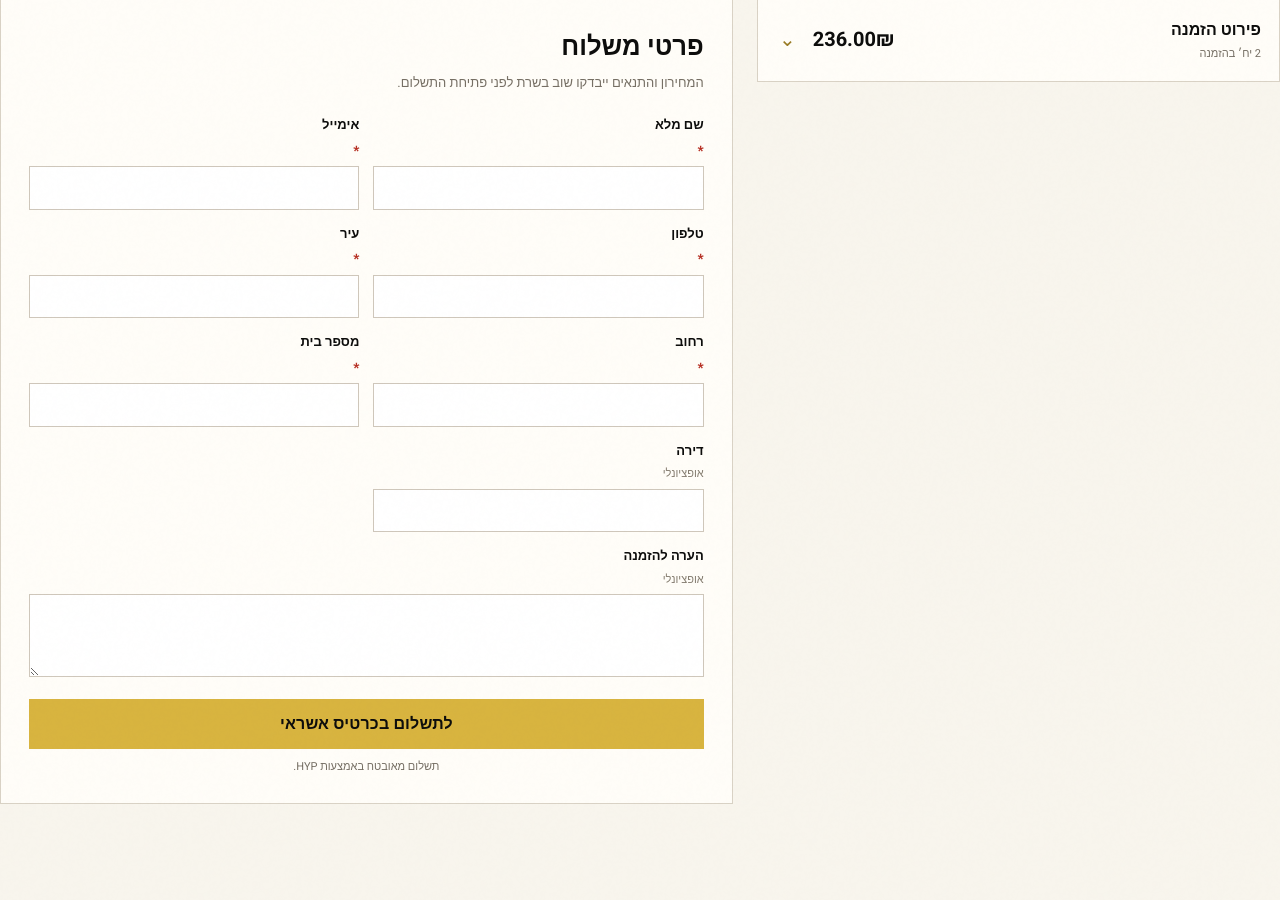
Test: clearly identifies and focuses the first missing delivery field before payment
The image size is (1280, 900).
(page scrolled)
Click the button "לתשלום בכרטיס אשראי". click: [366, 724]
box: left=29, top=699, right=704, bottom=749
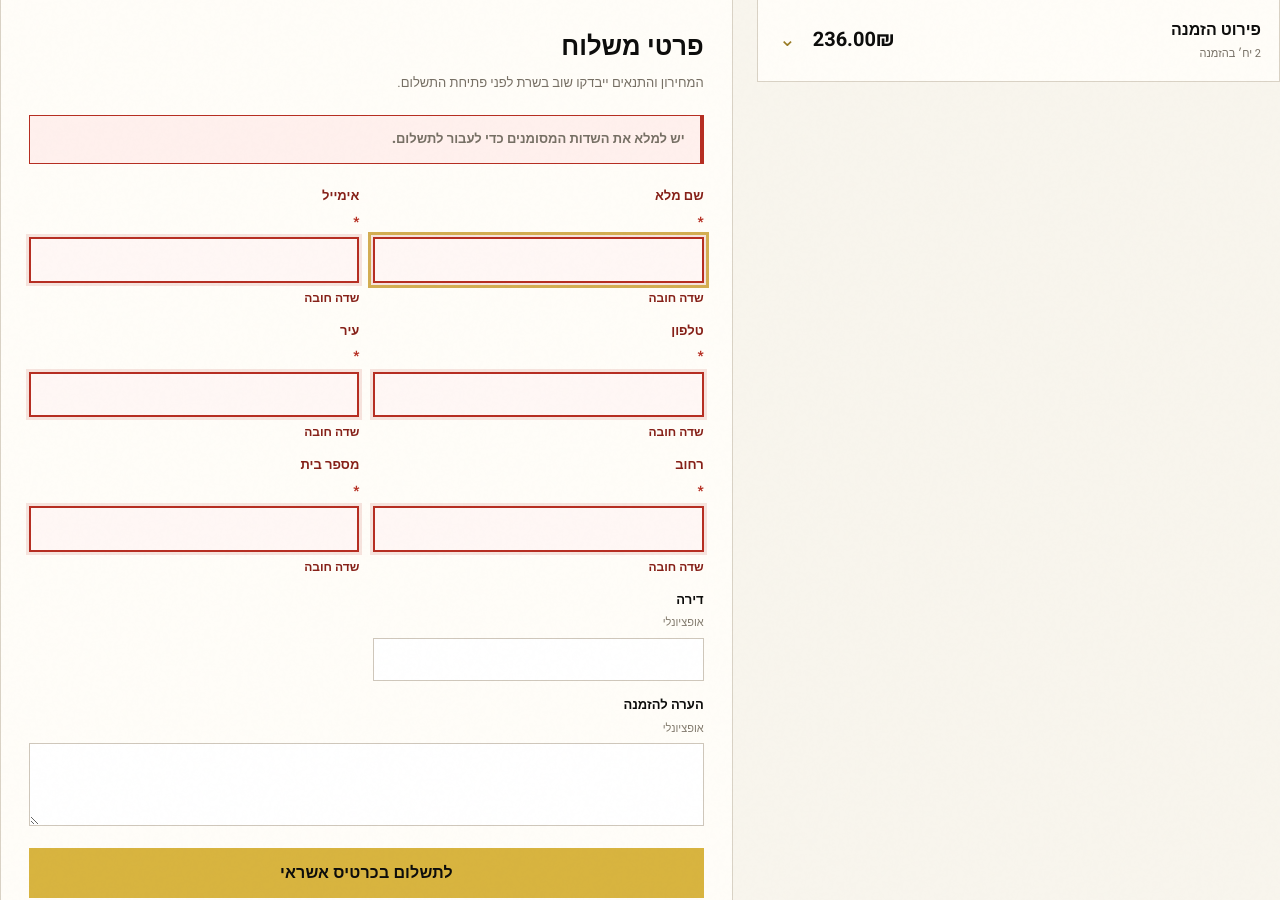
Expected: the message shows "יש למלא את השדות המסומנים", left=392, top=129, right=685, bottom=148
